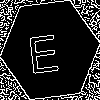E: (25, 25, 61, 74)
